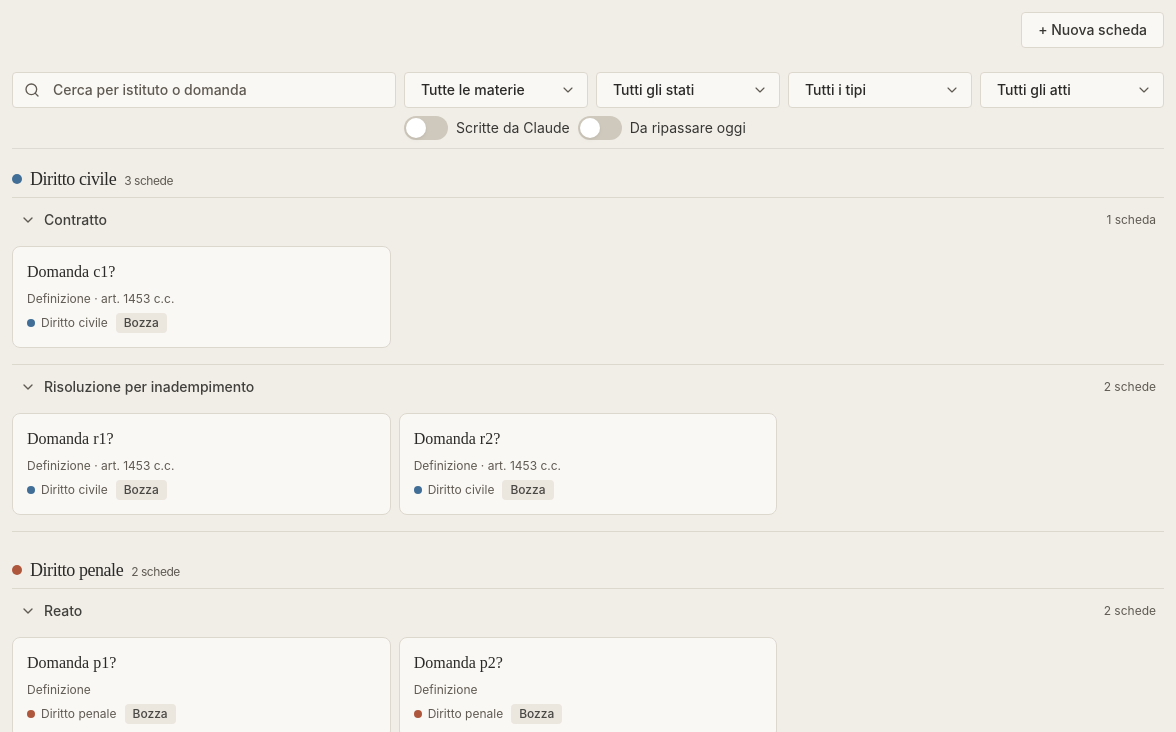
Test case: «Le mie schede», the filters › asks for the cards Claude wrote and the user has yet to read
Click the switch named "Scritte da Claude, da rileggere".
click(426, 128)  # box [404,116,448,140]
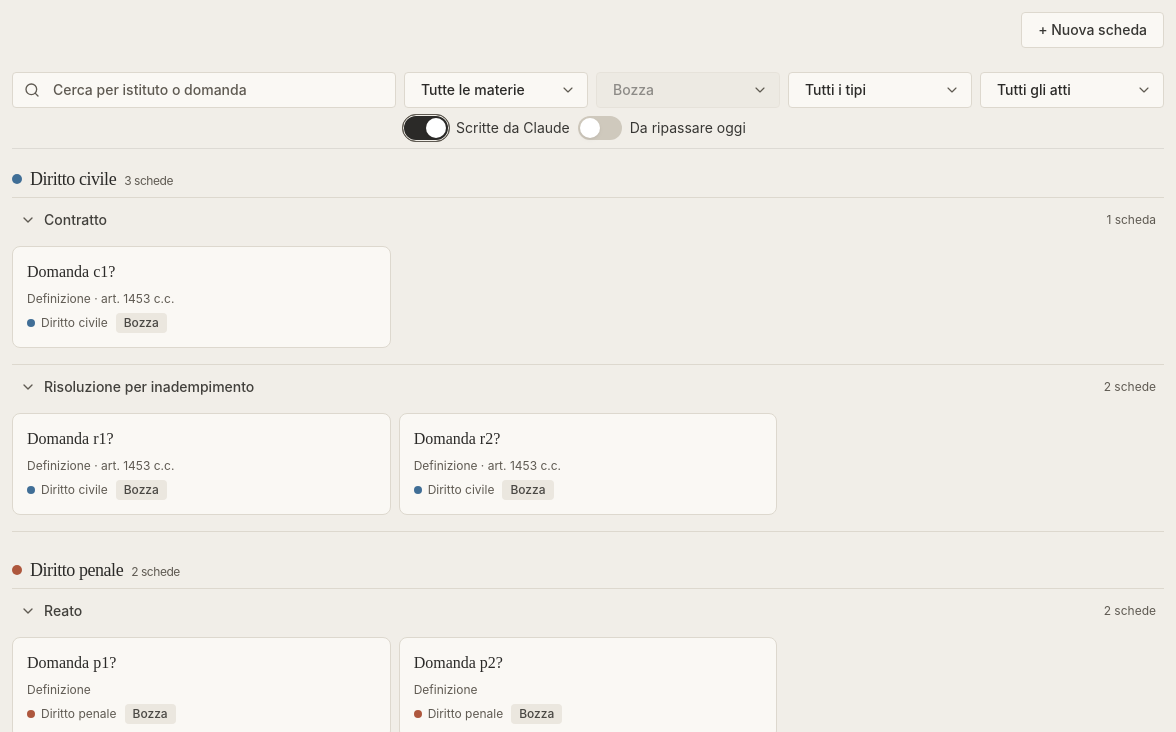
Result: the dropdown named "Stato" is disabled at [596,72,780,108]
